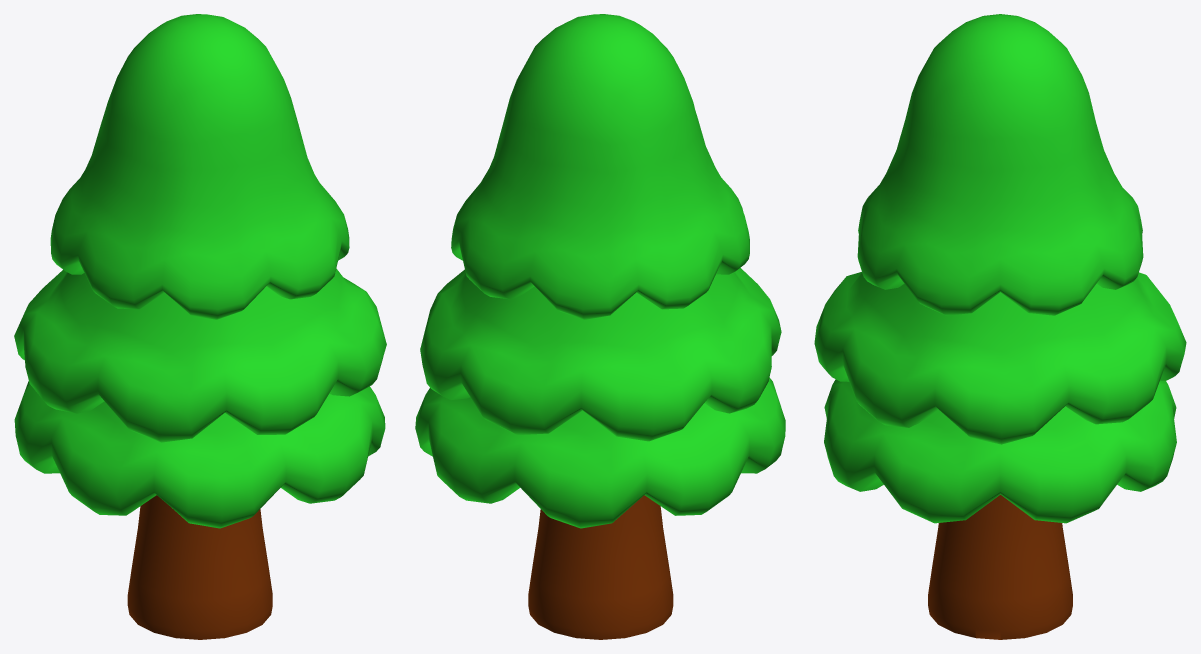
The model's file is TreeV2_Honk_low.fbx.
3 renders of one model, left to right at view 1: azimuth 30°, elevation 25°; view 2: azimuth 150°, elevation 25°; view 3: azimuth 270°, elevation 25°, orthographic.
Visible parts, largest first — view 1: Feuilles_Haut_low, Feuilles_Milieu_low, Feuilles_Bas_low, Tronc_low; view 2: Feuilles_Haut_low, Feuilles_Milieu_low, Feuilles_Bas_low, Tronc_low; view 3: Feuilles_Haut_low, Feuilles_Milieu_low, Feuilles_Bas_low, Tronc_low.
Boxes of the visible parts, left/top/right/bottom form: Feuilles_Haut_low: left=50, top=14, right=349, bottom=319; Feuilles_Milieu_low: left=14, top=268, right=386, bottom=442; Feuilles_Bas_low: left=14, top=381, right=385, bottom=528; Tronc_low: left=127, top=495, right=272, bottom=639; Feuilles_Haut_low: left=451, top=14, right=749, bottom=319; Feuilles_Milieu_low: left=420, top=268, right=781, bottom=441; Feuilles_Bas_low: left=415, top=377, right=785, bottom=528; Tronc_low: left=528, top=495, right=673, bottom=639; Feuilles_Haut_low: left=857, top=14, right=1143, bottom=315; Feuilles_Milieu_low: left=814, top=272, right=1186, bottom=444; Feuilles_Bas_low: left=824, top=379, right=1176, bottom=523; Tronc_low: left=928, top=495, right=1072, bottom=639.
Size of the model in its own units: 27.46 by 47.84 by 27.46.
